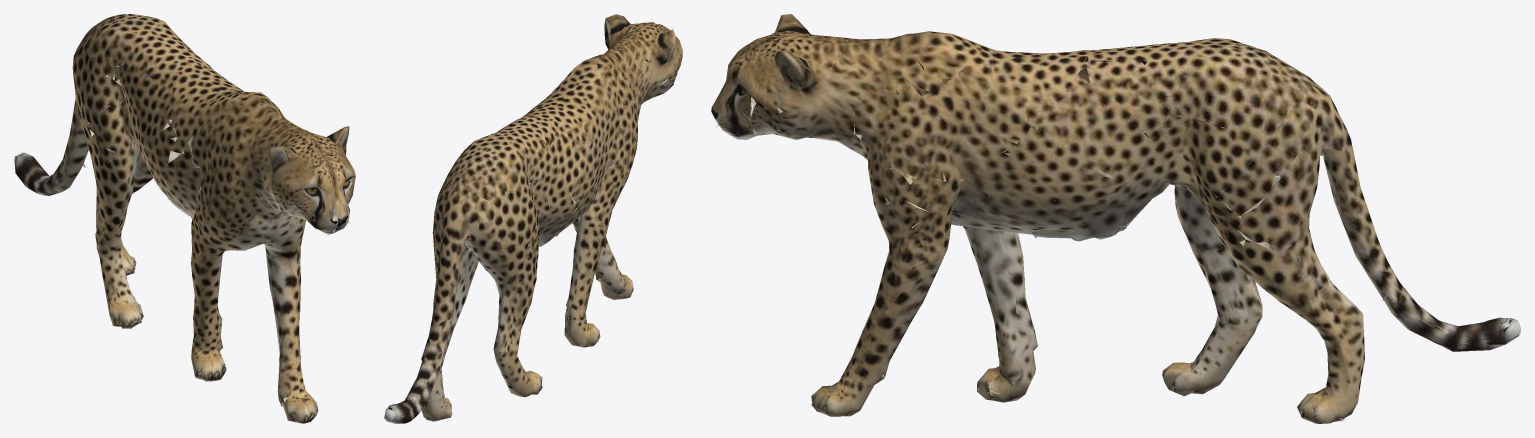
File: gepard.glb
The picture shows the model from 3 angles, left to right: view 1: azimuth 30°, elevation 25°; view 2: azimuth 150°, elevation 25°; view 3: azimuth 270°, elevation 25°; orthographic projection. The views are drawn at different scales.
Bounding box in the file's own units: 0.3154 × 0.9771 × 1.9.
Materials: 1 (1 with a texture image).
